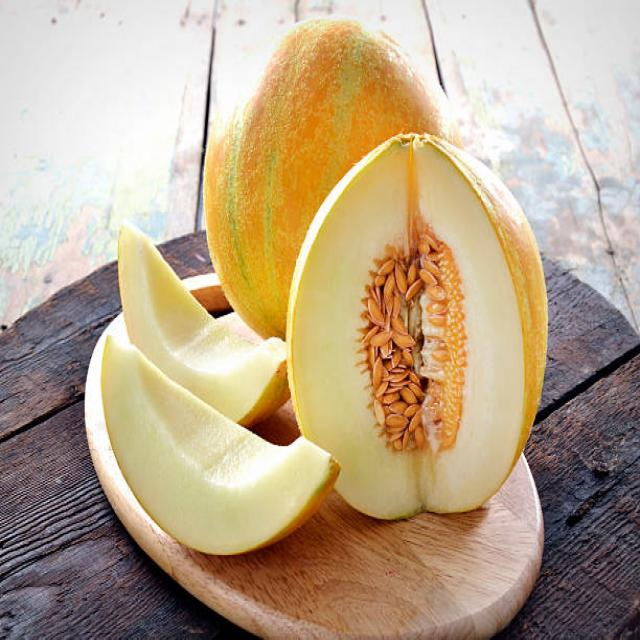Melon: (322, 139, 552, 521), (102, 420, 342, 555)
